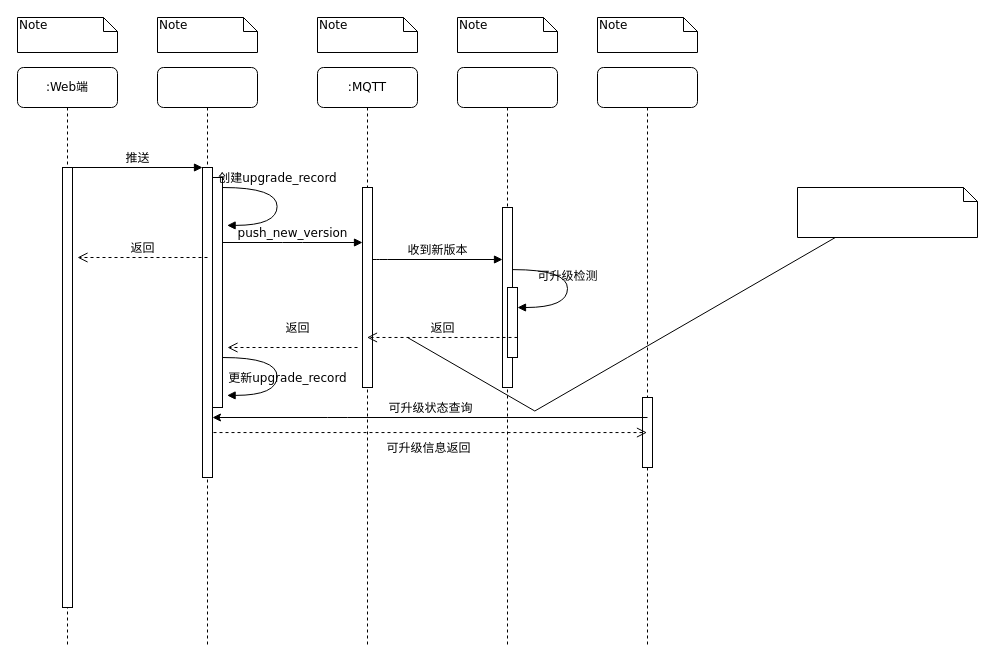
Image size: 995x665. Some labels were removed from this diagram. The box of each missing label's shape, as (x1, y1, x2, y2) in pixels:
:App端: (596, 66, 698, 648)
:OTA云端: (156, 66, 258, 648)
:机器人端: (456, 66, 558, 648)
UpgradeProgressMessage: (796, 186, 978, 238)
